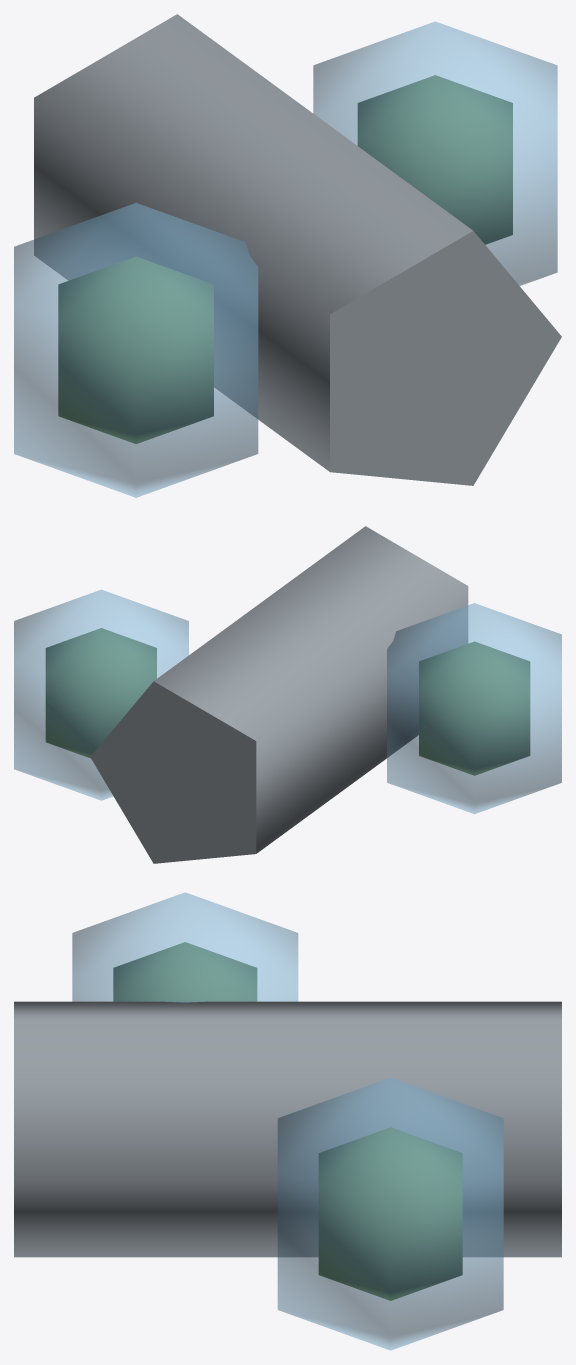
The model's file is space_orbital_hydroponics_t1_lod1.glb.
3 views of the same model, one above another, from view 1: azimuth 30°, elevation 25°; view 2: azimuth 150°, elevation 25°; view 3: azimuth 270°, elevation 25° (orthographic). The views are drawn at different scales.
Visible parts, largest first — view 1: body; view 2: body; view 3: body.
Boxes of the visible parts, x1,y1,x2,y2 form: body: (14,14,561,497); body: (14,526,561,863); body: (14,892,561,1350).
Bounding box in the file's own units: 10.21 × 4.4 × 8.
